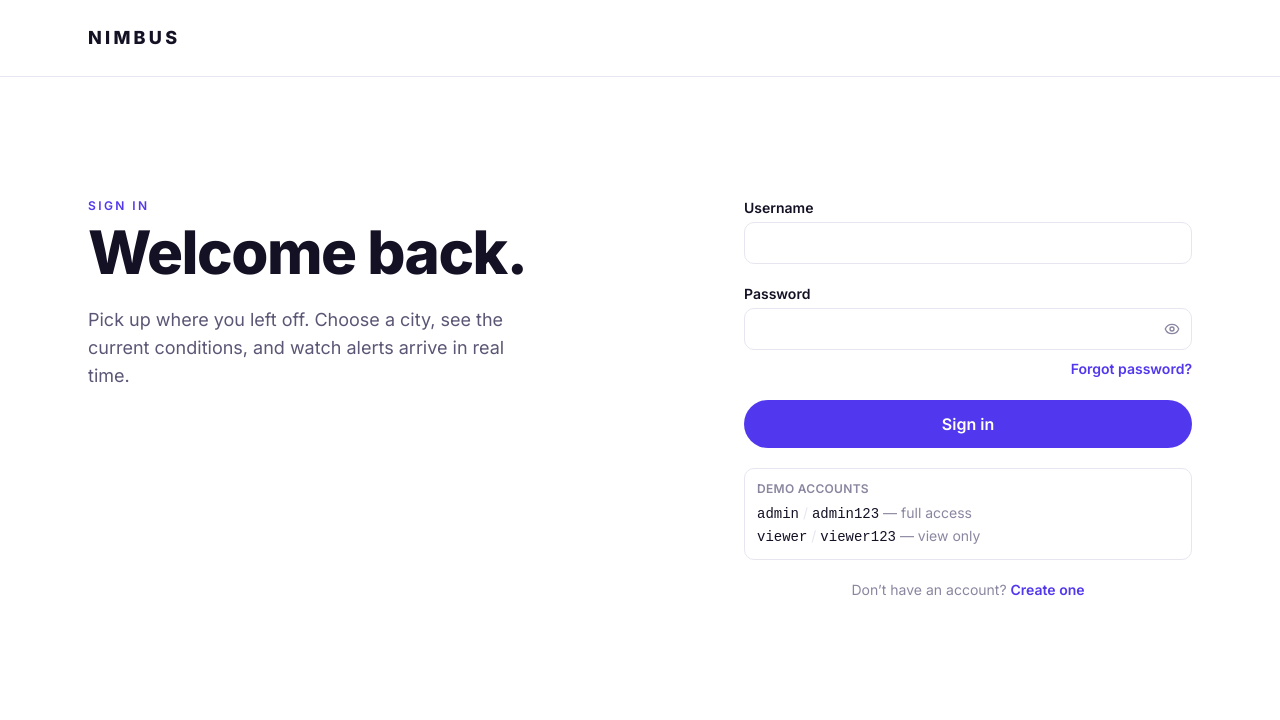
LoginPage › shows "Invalid username or password." on a 401
The width and height of the screenshot is (1280, 720).
In the field labelled "Username": (968, 242) left=744, top=222, right=1192, bottom=264, type "demo"
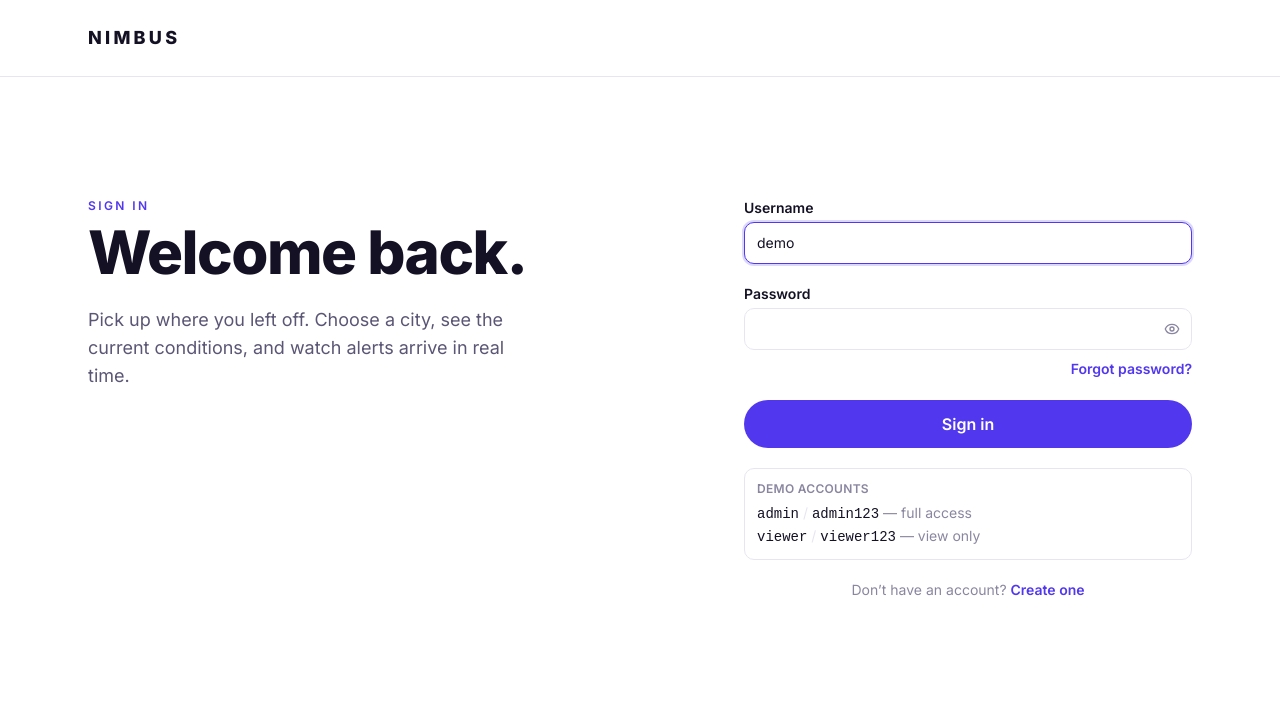
In the password field labelled "Password": (968, 328) left=744, top=308, right=1192, bottom=350, type "wrong"
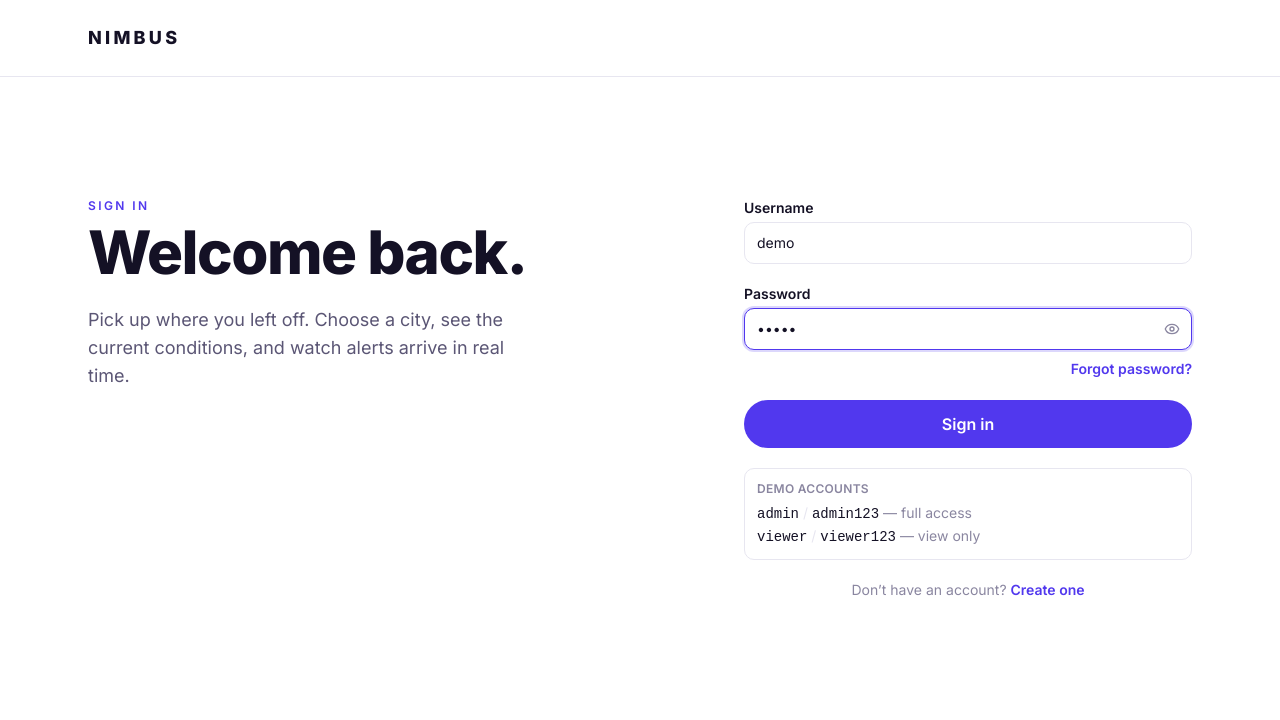
Click the button "Sign in": (968, 424) left=744, top=400, right=1192, bottom=448
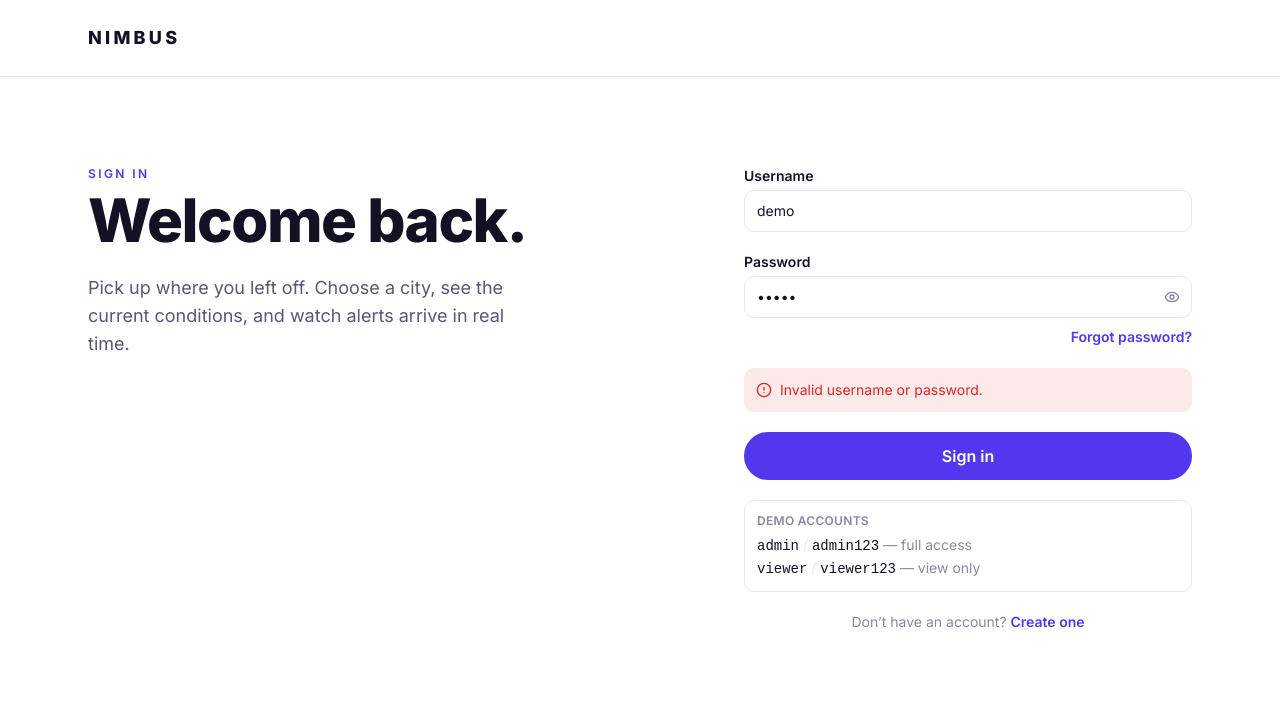
expect the message shows "Invalid username or password": met, box left=780, top=380, right=983, bottom=398
